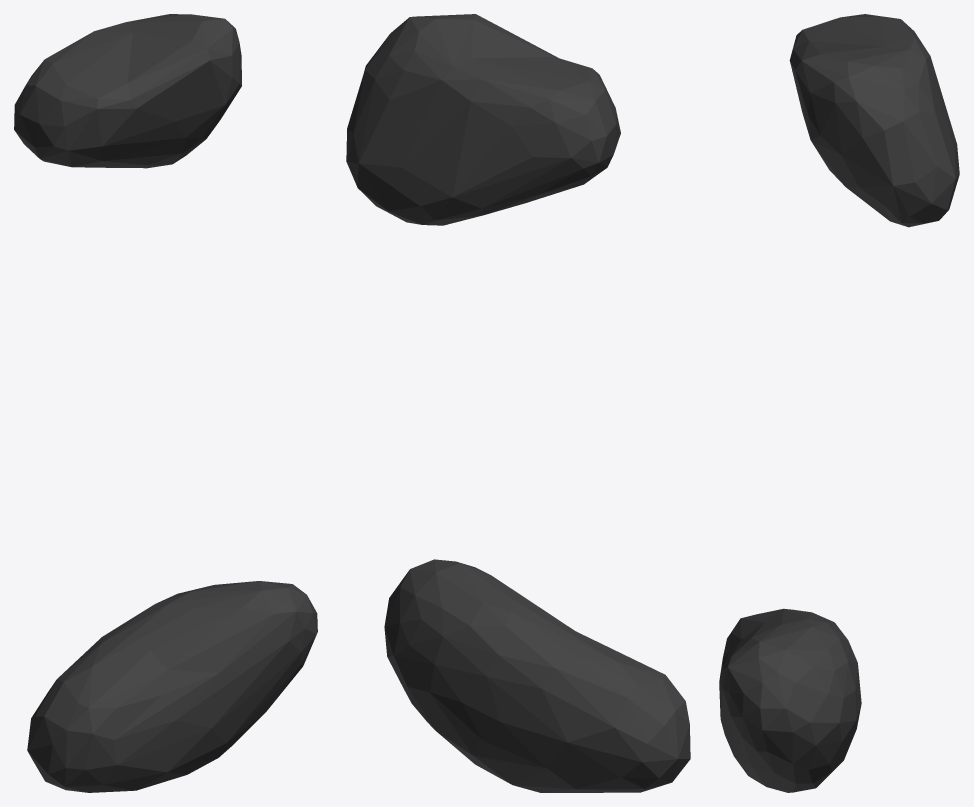
File: nodes_lymph_renal_LP.glb
The picture shows the model from 3 angles, left to right: view 1: azimuth 30°, elevation 25°; view 2: azimuth 150°, elevation 25°; view 3: azimuth 270°, elevation 25°; orthographic projection. The views are drawn at different scales.
Parts seen in each view (by area): view 1: nodes_lymph_renal_LP; view 2: nodes_lymph_renal_LP; view 3: nodes_lymph_renal_LP.
Part boxes in pixels (left/top/right/bottom): nodes_lymph_renal_LP: left=14, top=14, right=317, bottom=792; nodes_lymph_renal_LP: left=346, top=14, right=690, bottom=792; nodes_lymph_renal_LP: left=719, top=14, right=959, bottom=792.
Size of the model in its own units: 0.3351 by 0.8322 by 0.2405.
1 material, 1 textured.
